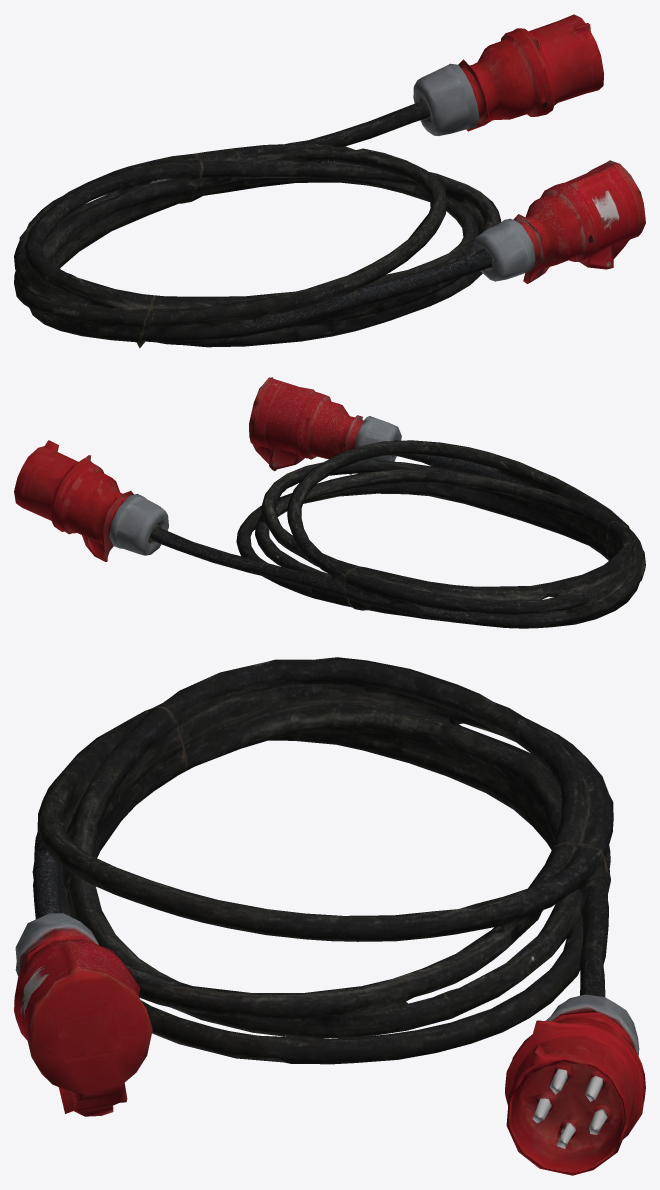
Rendered from cable.glb.
3 views of the same model, one above another, from view 1: azimuth 30°, elevation 25°; view 2: azimuth 150°, elevation 25°; view 3: azimuth 270°, elevation 25° (orthographic). The views are drawn at different scales.
Parts seen in each view (by area): view 1: vgyiea1aw_LOD0_TIER2_000; view 2: vgyiea1aw_LOD0_TIER2_000; view 3: vgyiea1aw_LOD0_TIER2_000.
Part boxes in pixels (<box>): vgyiea1aw_LOD0_TIER2_000: <box>14,14,645,348</box>; vgyiea1aw_LOD0_TIER2_000: <box>14,377,645,628</box>; vgyiea1aw_LOD0_TIER2_000: <box>14,657,645,1175</box>.
Size of the model in its own units: 0.5844 by 0.0926 by 0.3214.
1 material, 1 textured.
